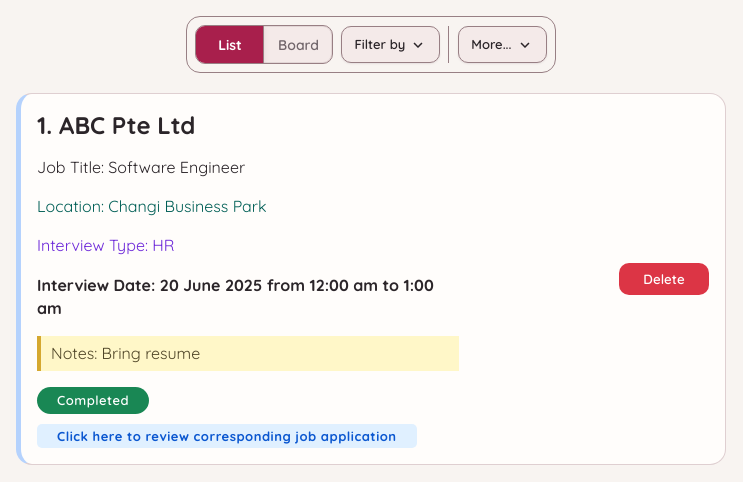
Test: Job interview viewer flow › deletes interview after user confirms
Expected: the heading "1. ABC Pte Ltd" is shown, [37,110,195,140]
Click the button "Delete" at (664, 279), box [619,263,709,295]
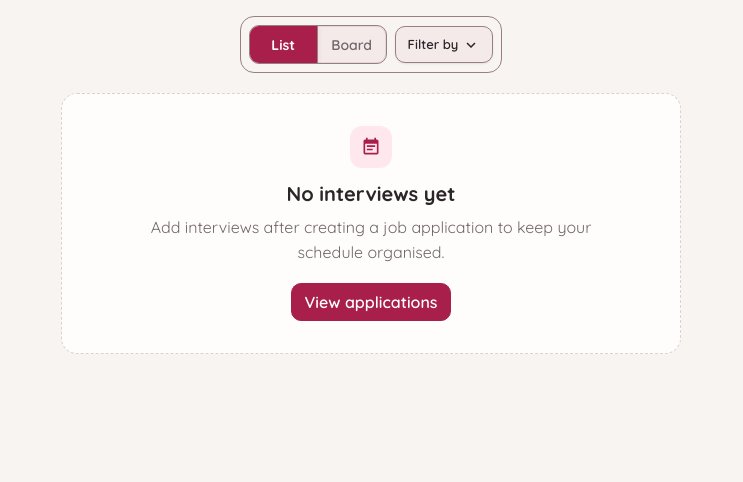
Expected: the heading "ABC Pte Ltd" is gone
